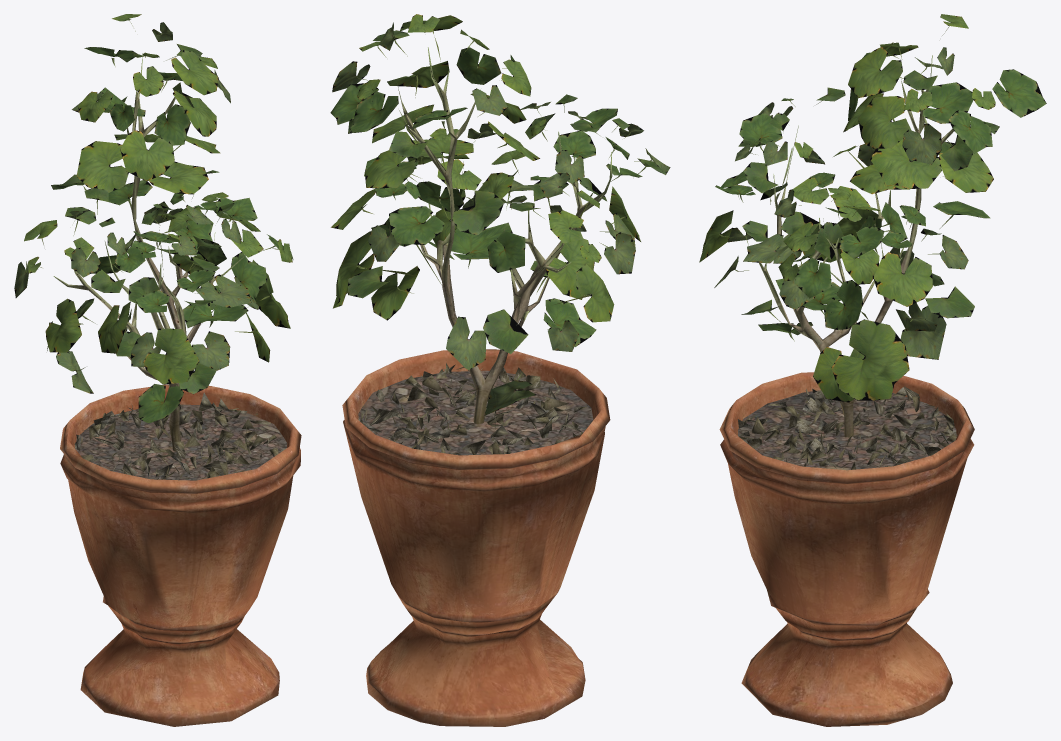
3 renders of one model, left to right at view 1: azimuth 30°, elevation 25°; view 2: azimuth 150°, elevation 25°; view 3: azimuth 270°, elevation 25°, orthographic. The views are drawn at different scales.
Visible parts, largest first — view 1: potted_plant_01_pot, potted_plant_01_leaves, potted_plant_01_pebbles, potted_plant_01_stem; view 2: potted_plant_01_pot, potted_plant_01_leaves, potted_plant_01_pebbles, potted_plant_01_stem; view 3: potted_plant_01_pot, potted_plant_01_leaves, potted_plant_01_pebbles, potted_plant_01_stem.
Boxes of the visible parts, x1,y1,x2,y2 form: potted_plant_01_pot: [60, 384, 301, 726]; potted_plant_01_leaves: [14, 14, 293, 423]; potted_plant_01_pebbles: [74, 392, 287, 480]; potted_plant_01_stem: [53, 53, 245, 451]; potted_plant_01_pot: [342, 349, 610, 726]; potted_plant_01_leaves: [330, 14, 670, 415]; potted_plant_01_pebbles: [358, 363, 593, 455]; potted_plant_01_stem: [397, 47, 612, 424]; potted_plant_01_pot: [719, 372, 974, 726]; potted_plant_01_leaves: [699, 14, 1046, 402]; potted_plant_01_pebbles: [738, 386, 957, 470]; potted_plant_01_stem: [759, 55, 965, 437].
Size of the model in its own units: 0.5846 by 1.34 by 0.6336.
2 materials, 2 textured.
